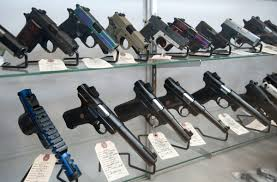gun: (63, 83, 162, 169), (10, 87, 86, 182), (112, 77, 196, 147), (186, 70, 273, 132), (153, 74, 233, 139), (55, 2, 122, 58), (20, 6, 81, 64), (104, 8, 155, 61), (230, 79, 277, 127), (141, 14, 191, 55), (168, 15, 211, 57), (218, 16, 263, 52), (198, 18, 228, 55)
